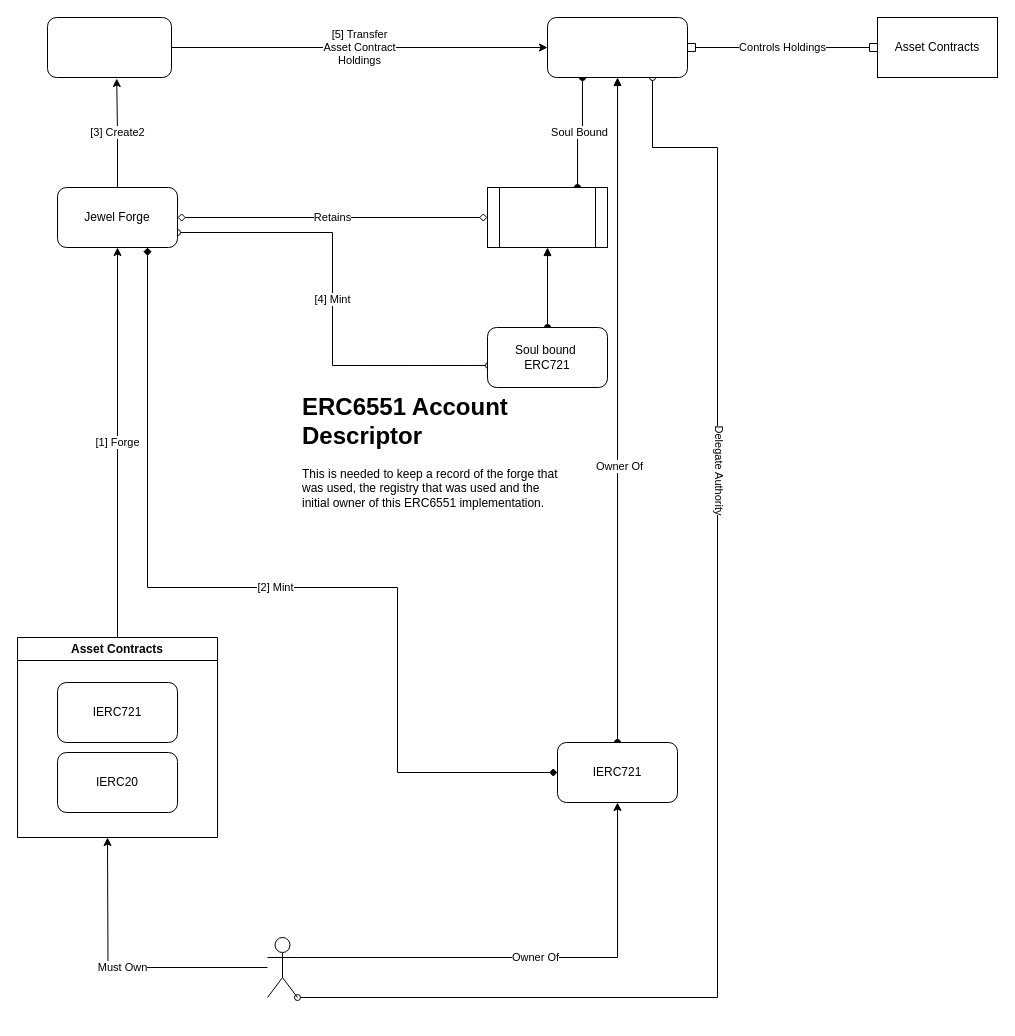
This 1015x1036 diagram has some shape labels left out. The shapes that lost their labels are listed below. From the top down, each one's centre as x and y in pixels, then its label:
At point (109, 47): "ERC6551 Registry".
At point (617, 47): "IERC6551Account".
At point (547, 217): "IERC6551Account Descriptor".
At point (282, 967): "Owner".
